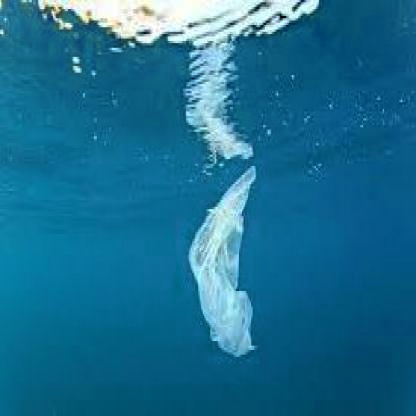pbag: (186, 164, 259, 362)
